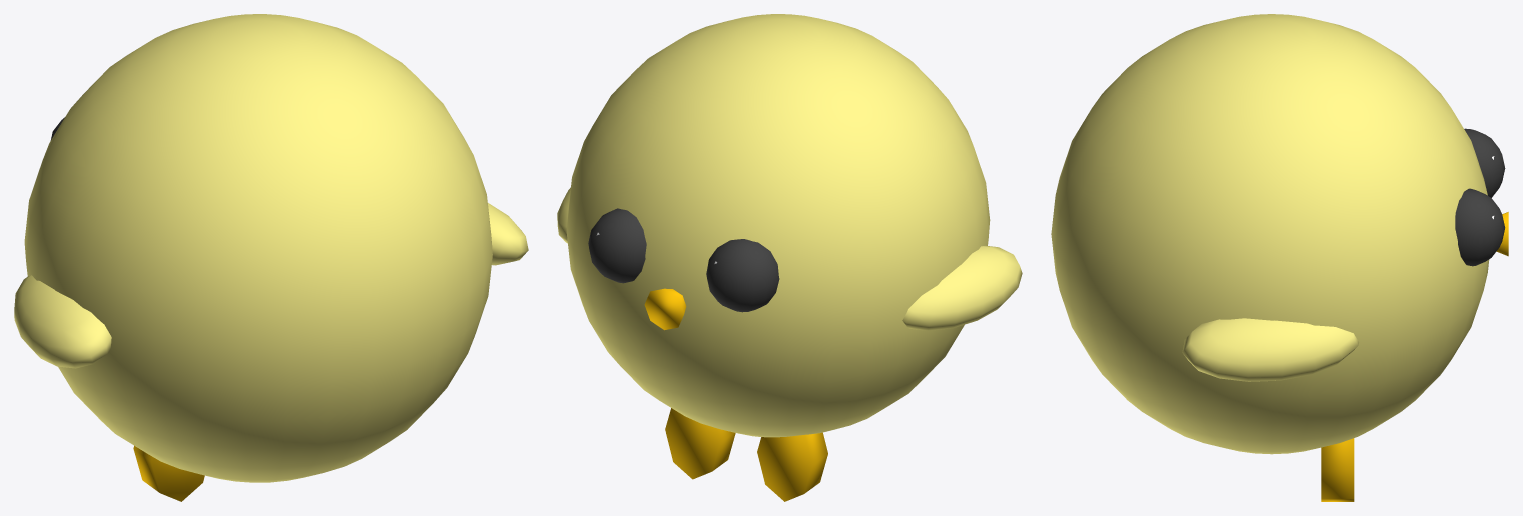
The model's file is Chick.glb.
The picture shows the model from 3 angles, left to right: view 1: azimuth 30°, elevation 25°; view 2: azimuth 150°, elevation 25°; view 3: azimuth 270°, elevation 25°; orthographic projection. The views are drawn at different scales.
Visible parts, largest first — view 1: Chick, Wing_Left, Foot_Left, Wing_Right; view 2: Chick, Wing_Left, Eye_Left, Foot_Left, Eye_Right, Foot_Right, Beak; view 3: Chick, Wing_Right, Eye_Right, Foot_Right, Eye_Left.
Boxes of the visible parts, x1=… form: Chick: x1=24, y1=14, x2=492, y2=482; Wing_Left: x1=14, y1=275, x2=111, y2=368; Foot_Left: x1=133, y1=445, x2=204, y2=501; Wing_Right: x1=488, y1=203, x2=528, y2=265; Chick: x1=566, y1=14, x2=990, y2=437; Wing_Left: x1=902, y1=245, x2=1022, y2=330; Eye_Left: x1=706, y1=239, x2=779, y2=312; Foot_Left: x1=757, y1=432, x2=827, y2=501; Eye_Right: x1=588, y1=208, x2=646, y2=283; Foot_Right: x1=665, y1=408, x2=735, y2=479; Beak: x1=644, y1=288, x2=686, y2=330; Chick: x1=1051, y1=14, x2=1489, y2=454; Wing_Right: x1=1182, y1=318, x2=1358, y2=381; Eye_Right: x1=1455, y1=188, x2=1505, y2=266; Foot_Right: x1=1321, y1=438, x2=1354, y2=501; Eye_Left: x1=1464, y1=128, x2=1505, y2=197.
Size of the model in its own units: 2.34 by 2.23 by 2.07.
